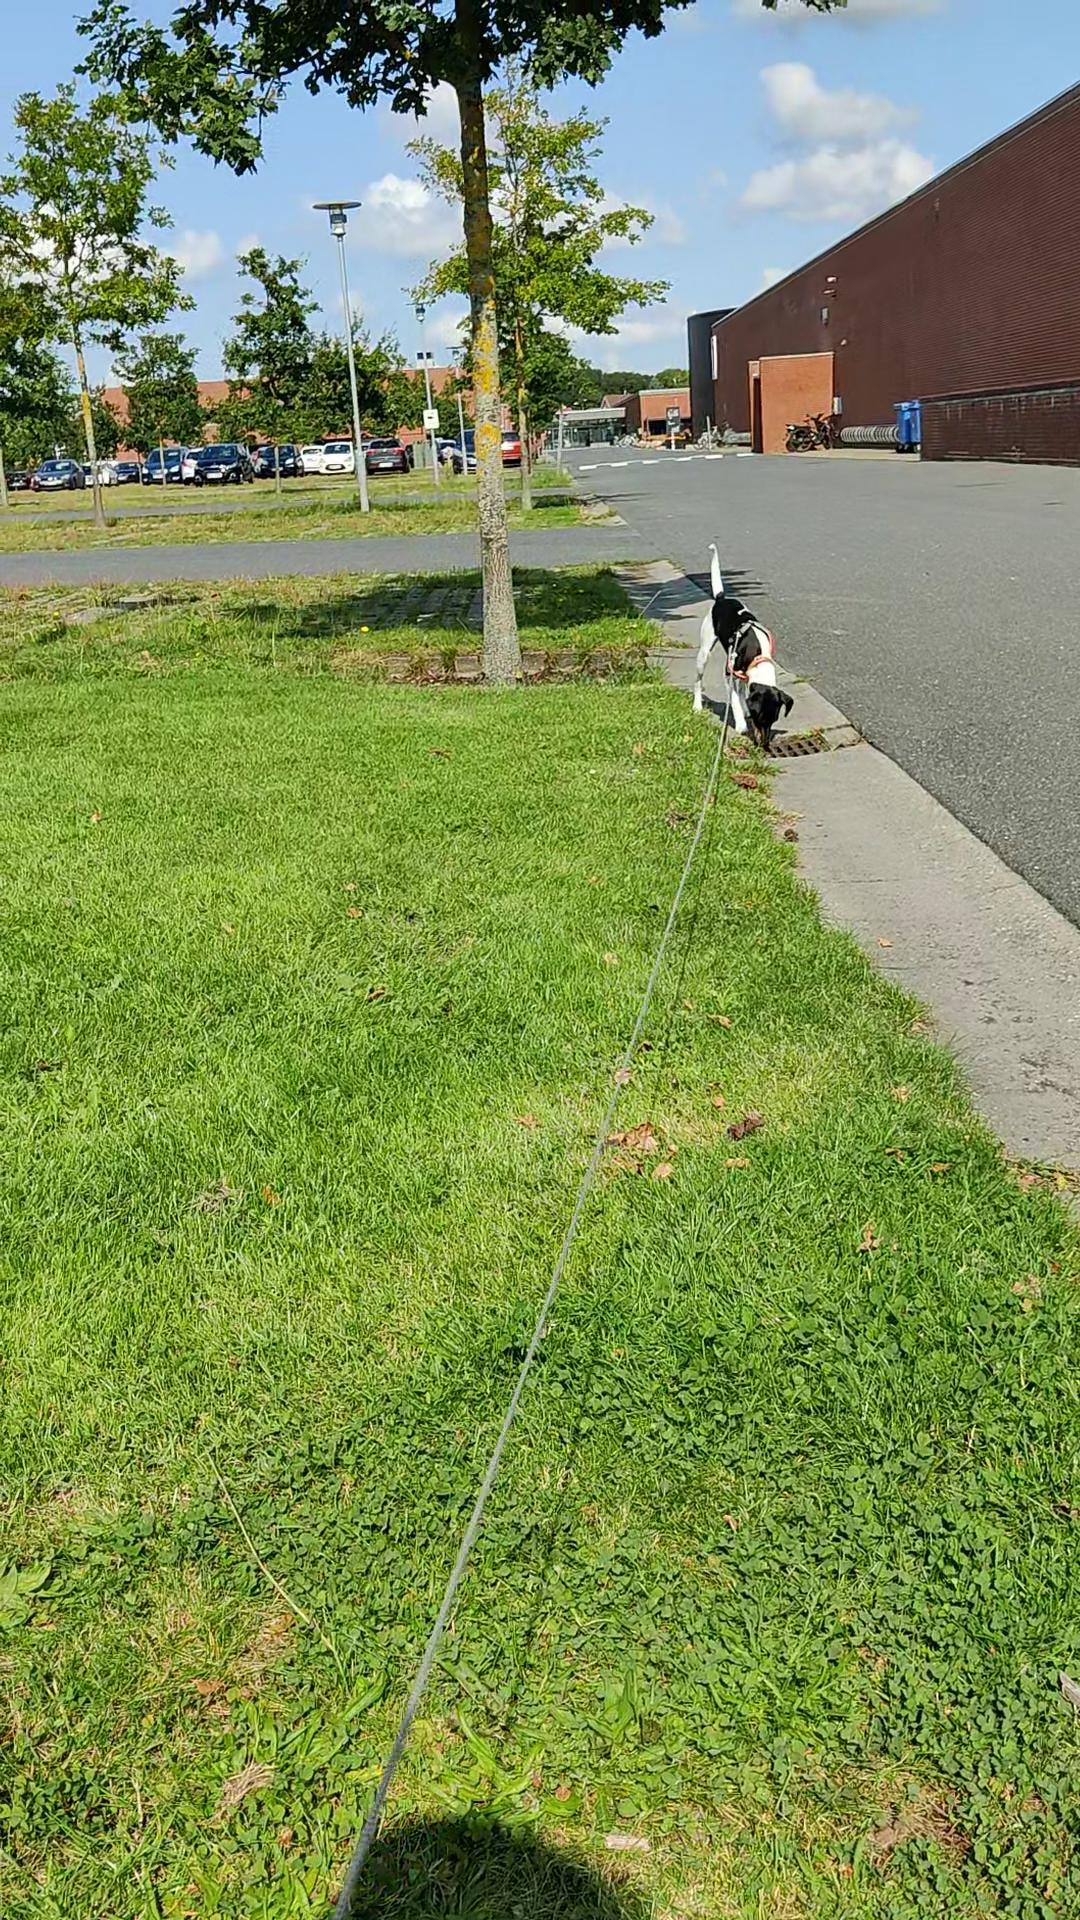Dog: (687, 537, 796, 749)
